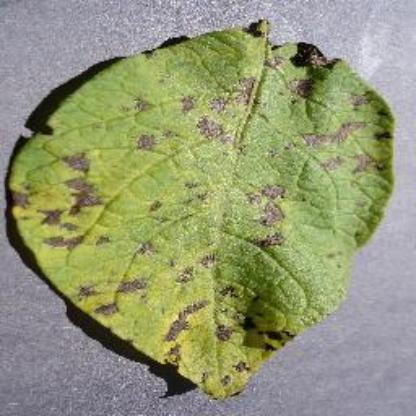Early-Blight: (7, 18, 407, 398)
